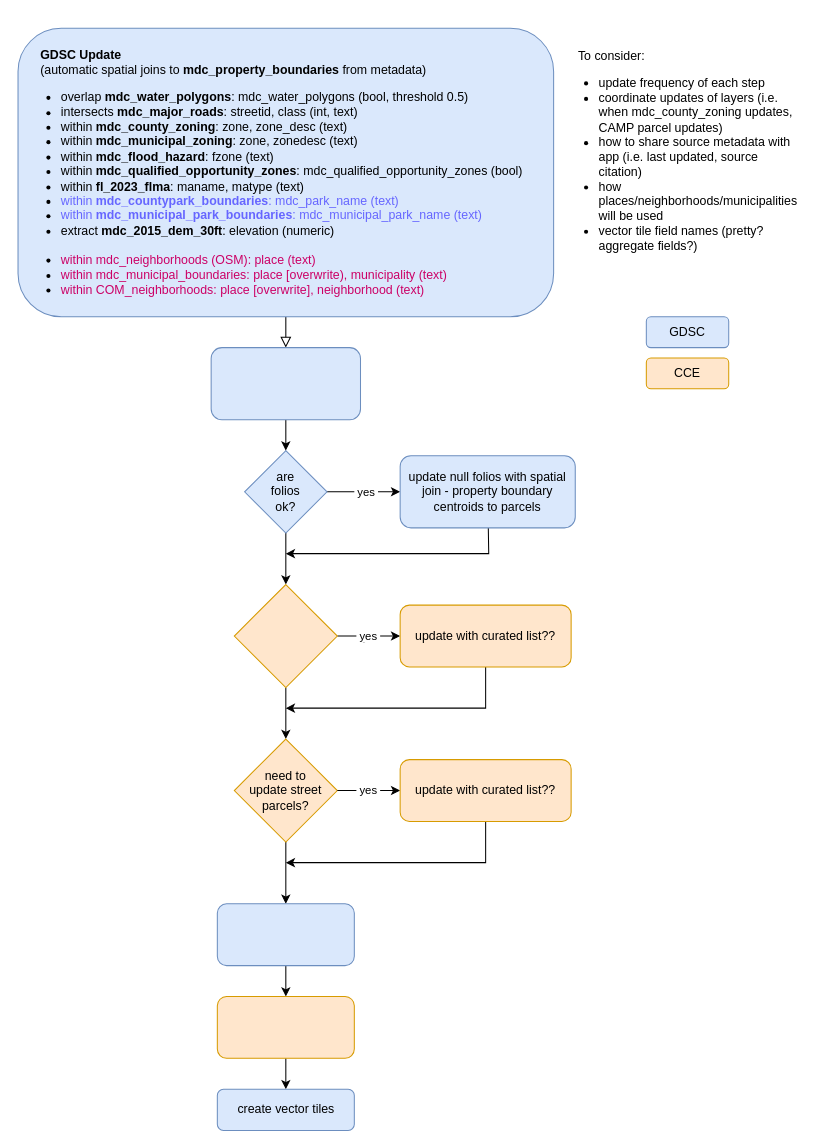
The diagram is 816 pixels wide and 1148 high, and some of its shapes have lost their labels. The shapes that lost their labels are listed below. From the top down, each one's box as (x1, y1, x2, y2) in pixels, then its label:
(210, 347, 360, 420): dor_code_cur column based join to add land_use categories
(233, 583, 337, 688): need to remove water parcels?
(216, 903, 354, 966): update ownership with script
(216, 995, 354, 1058): update ownership with curated list
